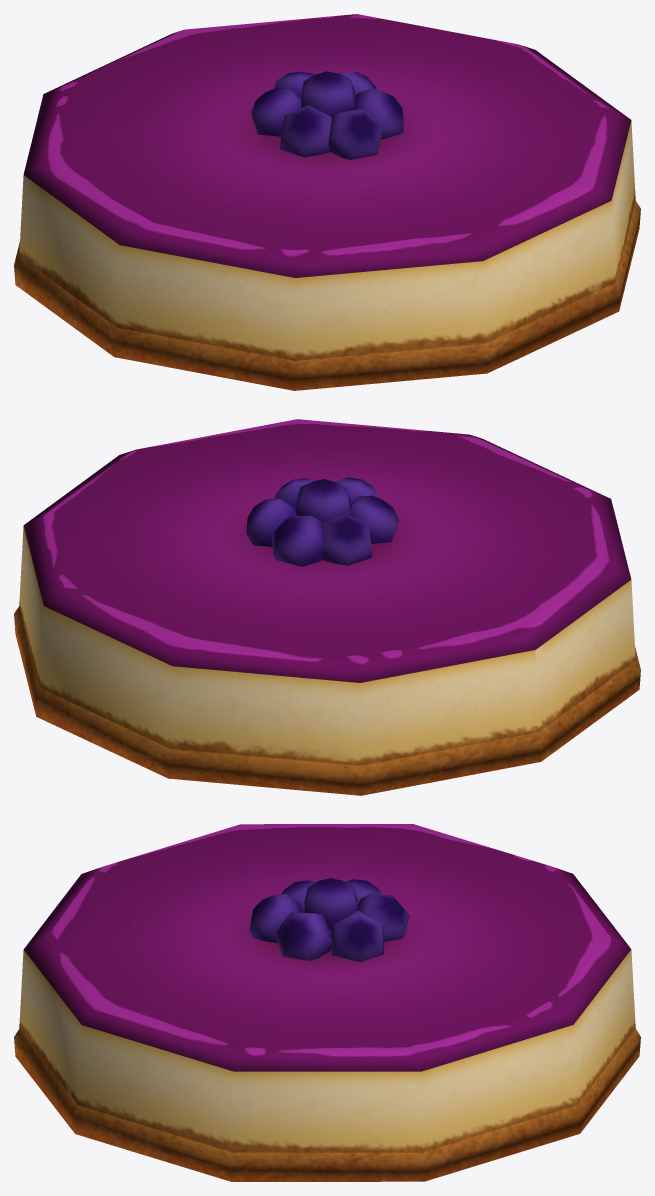
File: Blueberry_Cheesecake_Whole.fbx
3 views of the same model, one above another, from view 1: azimuth 30°, elevation 25°; view 2: azimuth 150°, elevation 25°; view 3: azimuth 270°, elevation 25° (orthographic). The views are drawn at different scales.
Visible parts, largest first — view 1: Blueberry_Cheesecake_Whole; view 2: Blueberry_Cheesecake_Whole; view 3: Blueberry_Cheesecake_Whole.
Part boxes in pixels (x1,y1,x2,y2): Blueberry_Cheesecake_Whole: (14, 14, 640, 390); Blueberry_Cheesecake_Whole: (14, 419, 640, 795); Blueberry_Cheesecake_Whole: (14, 824, 640, 1181).
Size of the model in its own units: 80 by 26.18 by 84.09.
